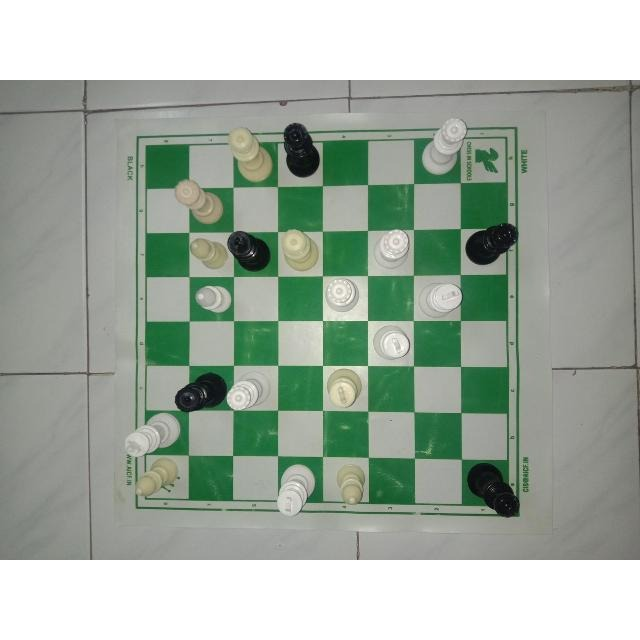black-king: (229, 228, 271, 272)
black-queen: (463, 461, 523, 521), (461, 219, 524, 268), (174, 368, 227, 412), (282, 123, 322, 181)
white-bishop: (130, 458, 184, 499), (333, 462, 368, 508), (189, 232, 229, 270), (193, 279, 231, 317)
white-king: (123, 411, 184, 461), (274, 461, 318, 517), (414, 279, 465, 319), (325, 366, 365, 408), (372, 322, 412, 362)
white-queen: (420, 114, 468, 178), (226, 124, 275, 183), (172, 175, 226, 228), (225, 370, 273, 416), (279, 226, 323, 274), (372, 225, 412, 273), (325, 274, 365, 313)
